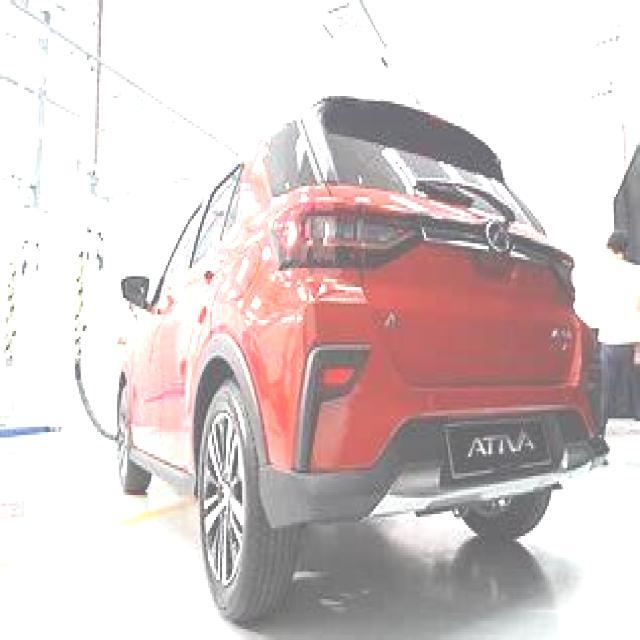PeroduaAtiva: (107, 93, 612, 628)
